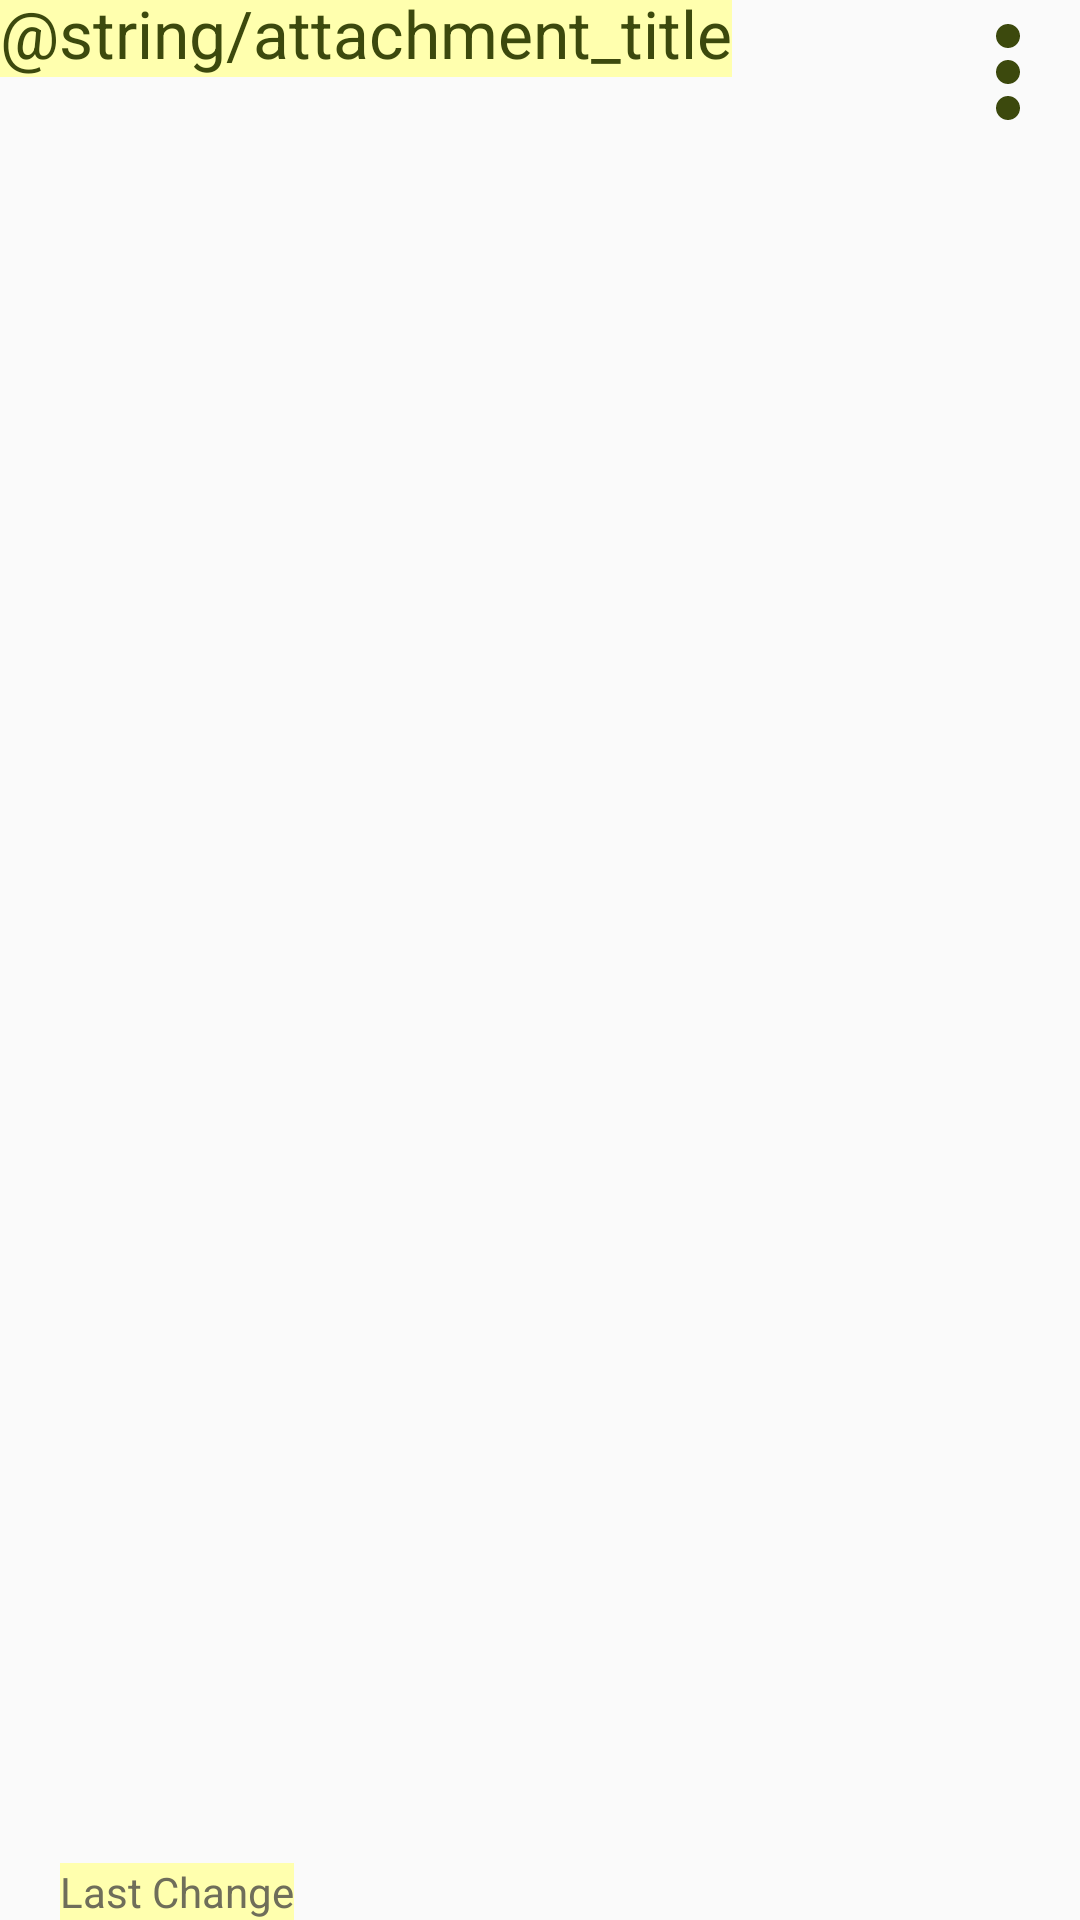

Icons on this 1080x1920 Android screen, each with its box as (x1, y1, x2, y2):
more vert: (996, 24, 1020, 120)
